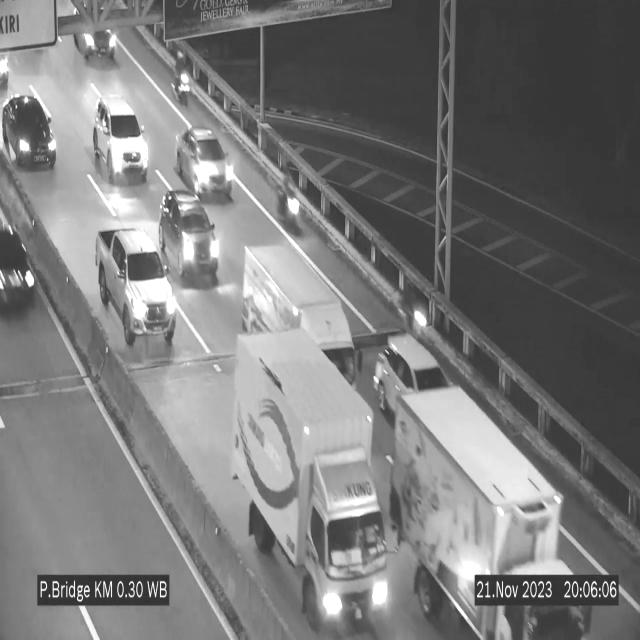Car: (95, 228, 176, 356), (374, 334, 450, 412), (160, 190, 220, 284), (91, 94, 149, 182), (0, 91, 58, 175), (176, 127, 233, 201), (0, 216, 35, 317), (70, 6, 119, 70)
Motorcycle: (277, 161, 303, 242), (397, 278, 428, 342), (172, 53, 190, 107)
Truck: (394, 386, 593, 640), (234, 330, 390, 636), (241, 243, 365, 392)
